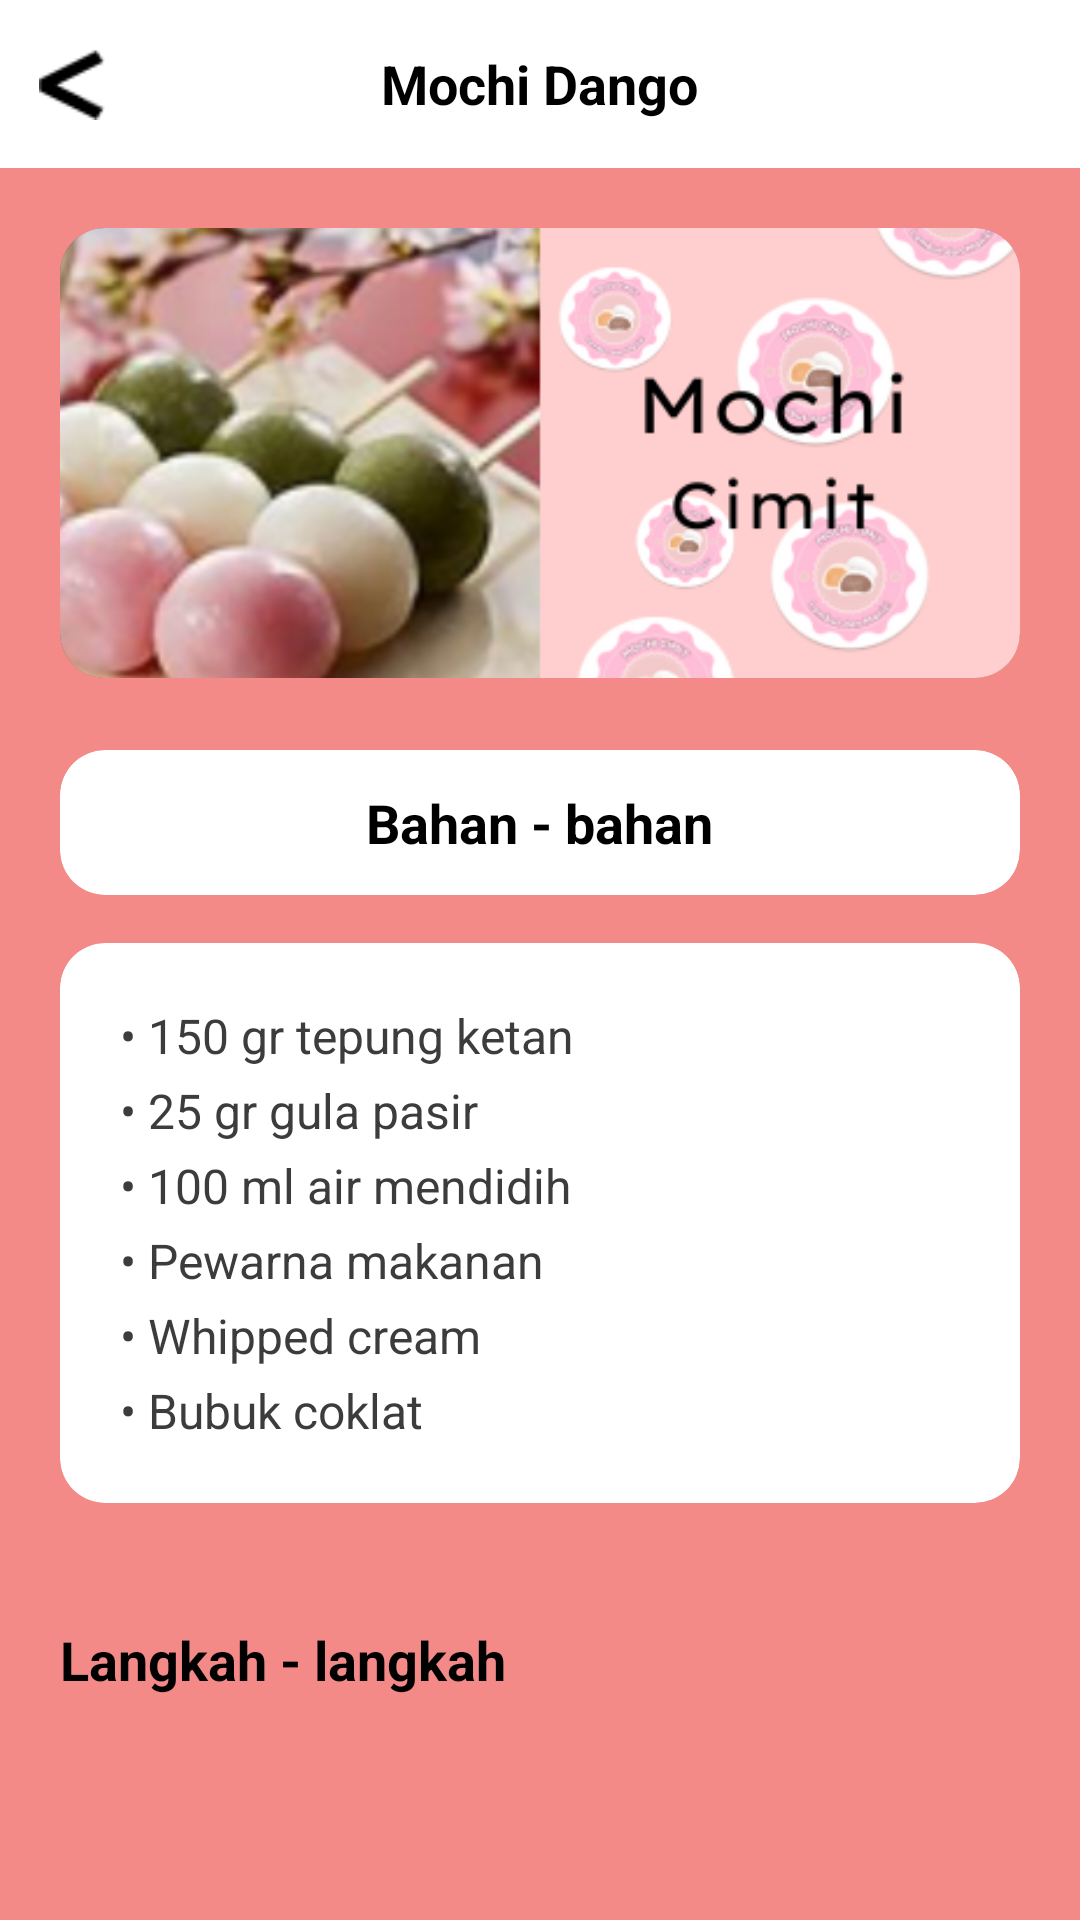

Icon click points for this 1080 x 1920 phone screenshot, format point (x, y):
Kembali: point (71, 85)
